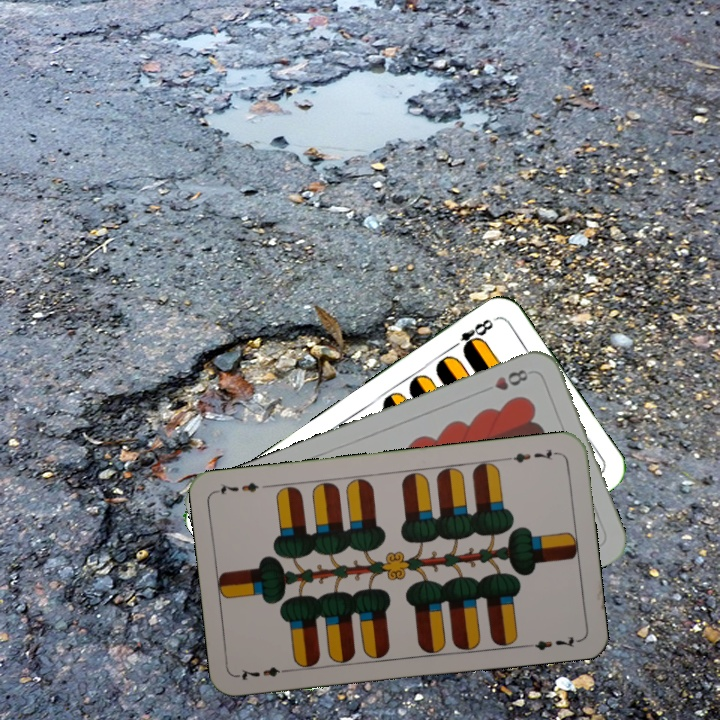E7: (502, 445, 561, 466), (234, 663, 293, 683)
E8: (446, 315, 496, 355)
H8: (478, 365, 531, 396)
